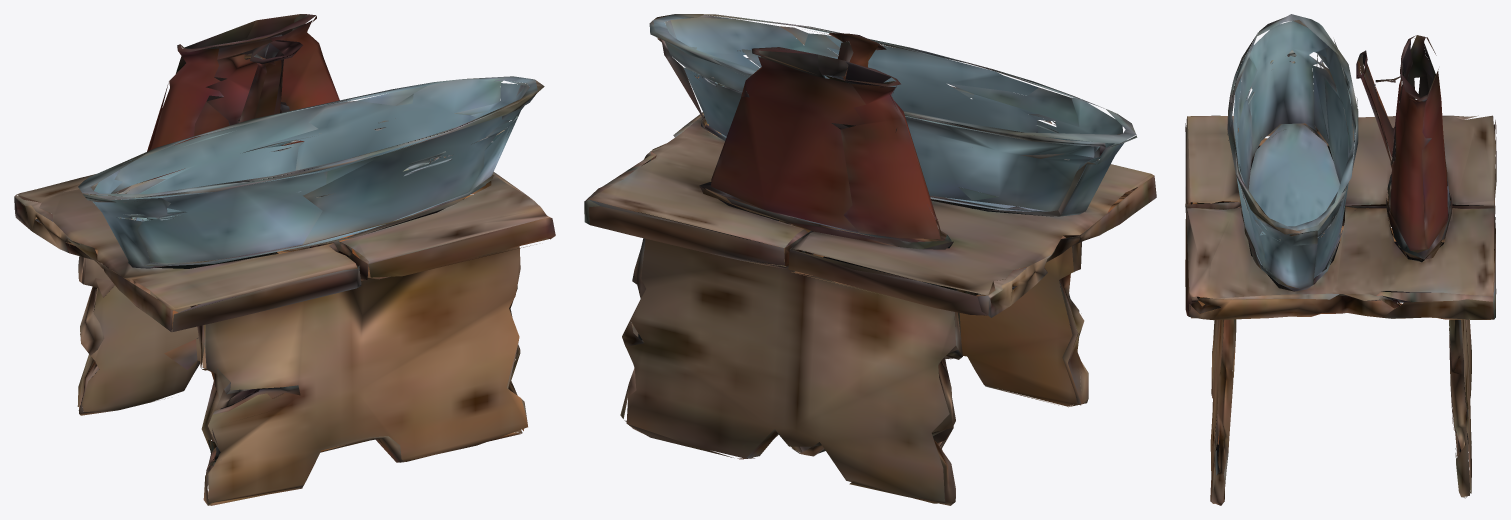
File: palangana.movil.glb
The picture shows the model from 3 angles, left to right: view 1: azimuth 30°, elevation 25°; view 2: azimuth 150°, elevation 25°; view 3: azimuth 270°, elevation 25°; orthographic projection. The views are drawn at different scales.
Visible parts, largest first — view 1: geometry_0; view 2: geometry_0; view 3: geometry_0.
Part boxes in pixels (box(x1,y1,x2,y2)): geometry_0: box(14, 14, 555, 505); geometry_0: box(584, 14, 1156, 505); geometry_0: box(1185, 14, 1496, 505).
Size of the model in its own units: 0.6961 by 0.5486 by 0.42.
1 material, 1 textured.
